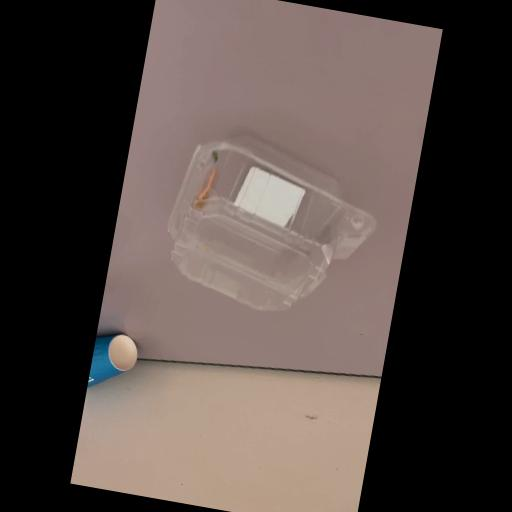lp_paper_cup: (88, 328, 142, 402)
small_plastic_container: (151, 118, 393, 330)
